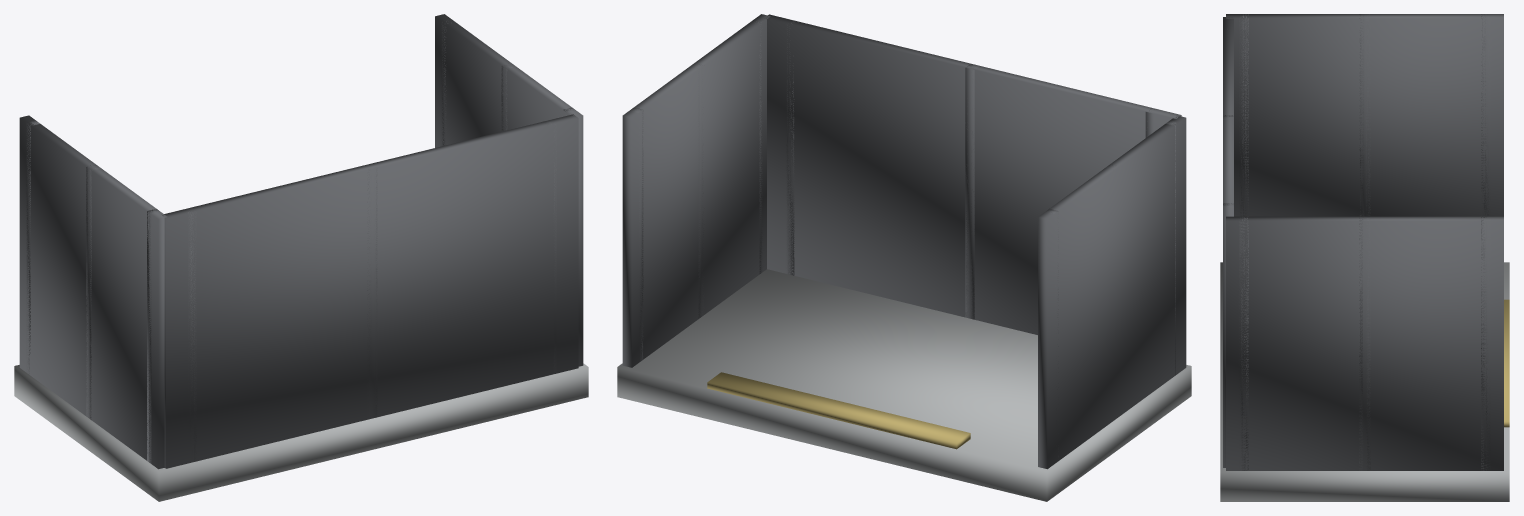
The model's file is landing_steel_w180_d105_door.glb.
3 views of the same model, side by side, from view 1: azimuth 30°, elevation 25°; view 2: azimuth 150°, elevation 25°; view 3: azimuth 270°, elevation 25° (orthographic).
Parts seen in each view (by area): view 1: world; view 2: world; view 3: world.
Boxes of the visible parts, bbox=[...] form: world: bbox=[14, 14, 588, 501]; world: bbox=[617, 14, 1191, 501]; world: bbox=[1220, 14, 1509, 501].
Size of the model in its own units: 1.8 by 1.12 by 1.05.
